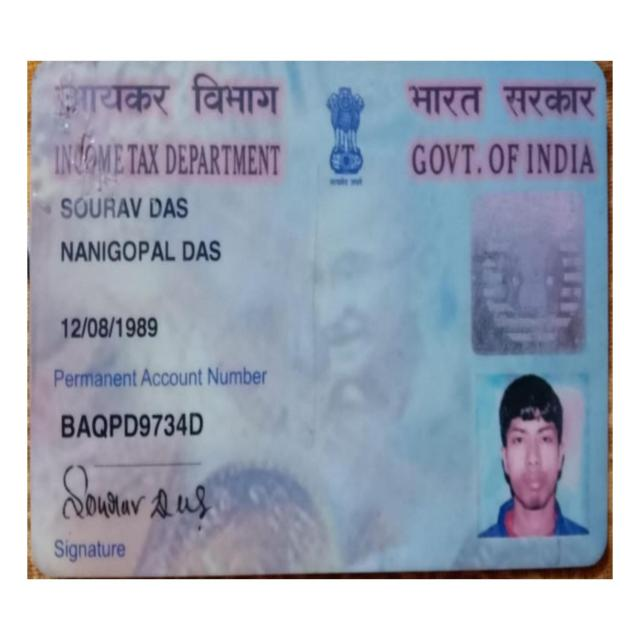pan_card: (27, 61, 614, 577)
